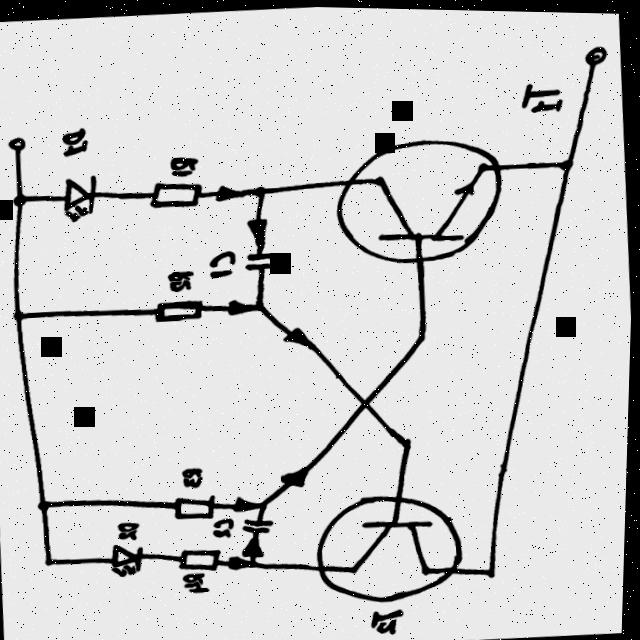capacitor: (244, 249, 276, 271), (243, 517, 277, 533)
crossover: (355, 391, 379, 411)
diode: (60, 174, 99, 224), (112, 542, 147, 576), (280, 323, 319, 350), (281, 465, 310, 486)
junction: (553, 151, 577, 172), (398, 433, 417, 451), (412, 328, 432, 344), (12, 192, 28, 207), (485, 563, 501, 577), (253, 300, 267, 312), (254, 184, 267, 196), (259, 498, 272, 509), (13, 310, 26, 321), (39, 500, 52, 510), (46, 556, 58, 566), (250, 559, 261, 568)
resistor: (148, 178, 204, 209), (154, 298, 204, 323), (175, 494, 219, 519), (180, 547, 225, 571)
terminal: (580, 41, 609, 67), (7, 136, 26, 153)
text: (517, 77, 565, 113), (371, 605, 407, 634), (60, 127, 88, 156), (209, 249, 237, 277), (167, 268, 195, 292), (183, 570, 212, 593), (169, 155, 197, 177), (182, 466, 205, 488), (214, 516, 236, 537), (120, 521, 141, 540)
transistor: (331, 131, 508, 267), (315, 489, 467, 604)
